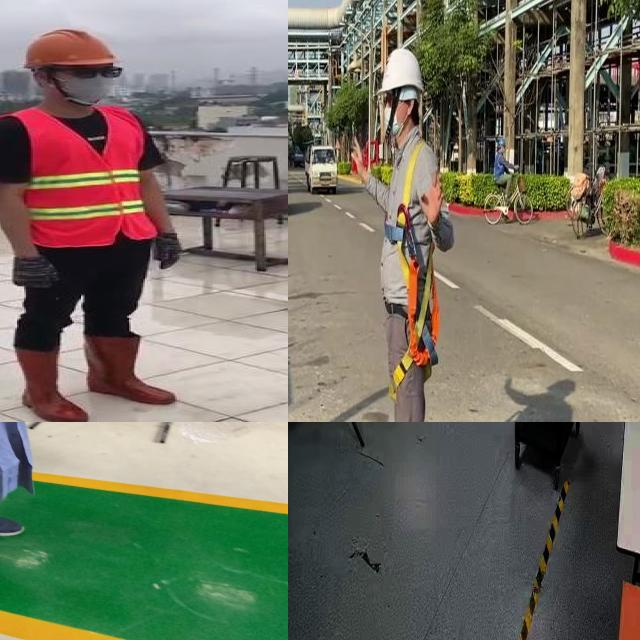Harness: (386, 139, 440, 400)
boots: (2, 336, 91, 422), (86, 333, 186, 405)
face_mask: (53, 58, 123, 100)
glasses: (58, 62, 127, 82)
hand_glove: (0, 259, 69, 289), (147, 231, 182, 269)
head_helmet: (18, 27, 117, 70)
person: (0, 25, 192, 422)
shoes: (0, 510, 28, 539)
vest: (0, 105, 157, 248)
